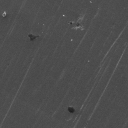corrosion: (27, 33, 40, 42), (66, 106, 76, 114), (1, 11, 8, 18), (75, 22, 82, 29), (68, 20, 74, 27)
